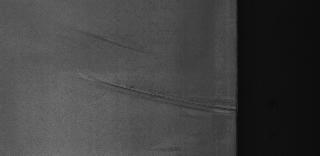scratches: (77, 68, 237, 120)
